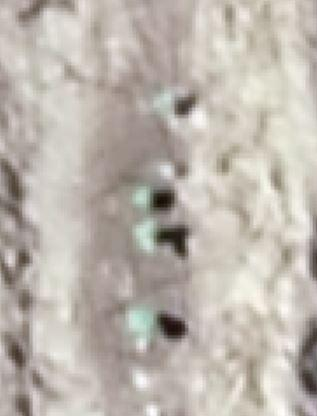cotton: (127, 310, 159, 341), (135, 223, 154, 247), (134, 188, 151, 209)
